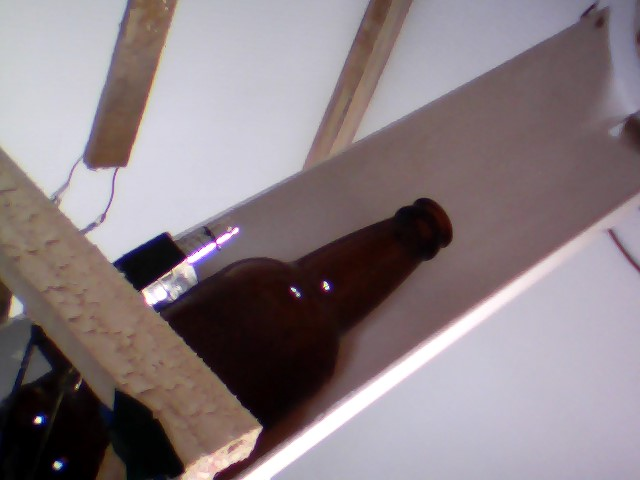vidrio: (182, 184, 464, 442)
